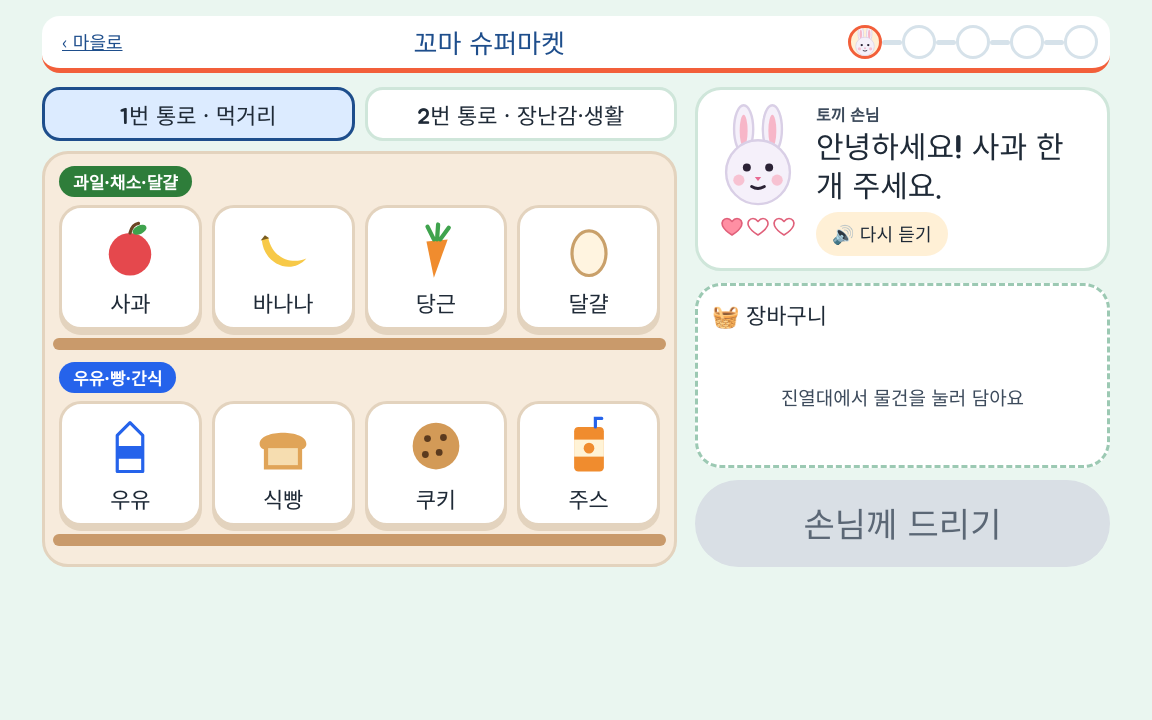
점원 놀이 › 주문을 듣고 고르고, 틀리면 도와주고, 맞으면 다음 손님
Earlier steps of the test are not shown.
Expected: the text "안녕하세요! 사과 한 개 주세요." is shown, [816,130,1095,208]
Expected: the button "손님께 드리기" is disabled, [695,480,1110,567]
Click the button with aria-label "바나나 담기" at [283, 268], box [212,205,355,330]
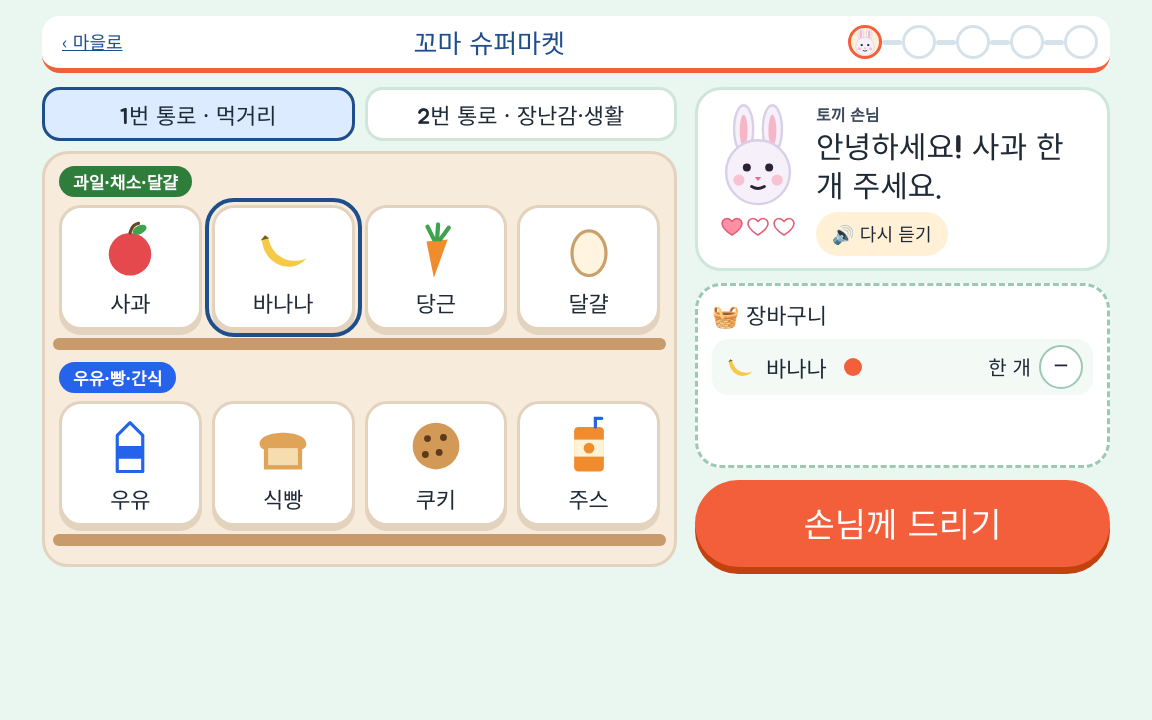
Click the button "손님께 드리기" at [902, 524], box [695,480,1110,567]
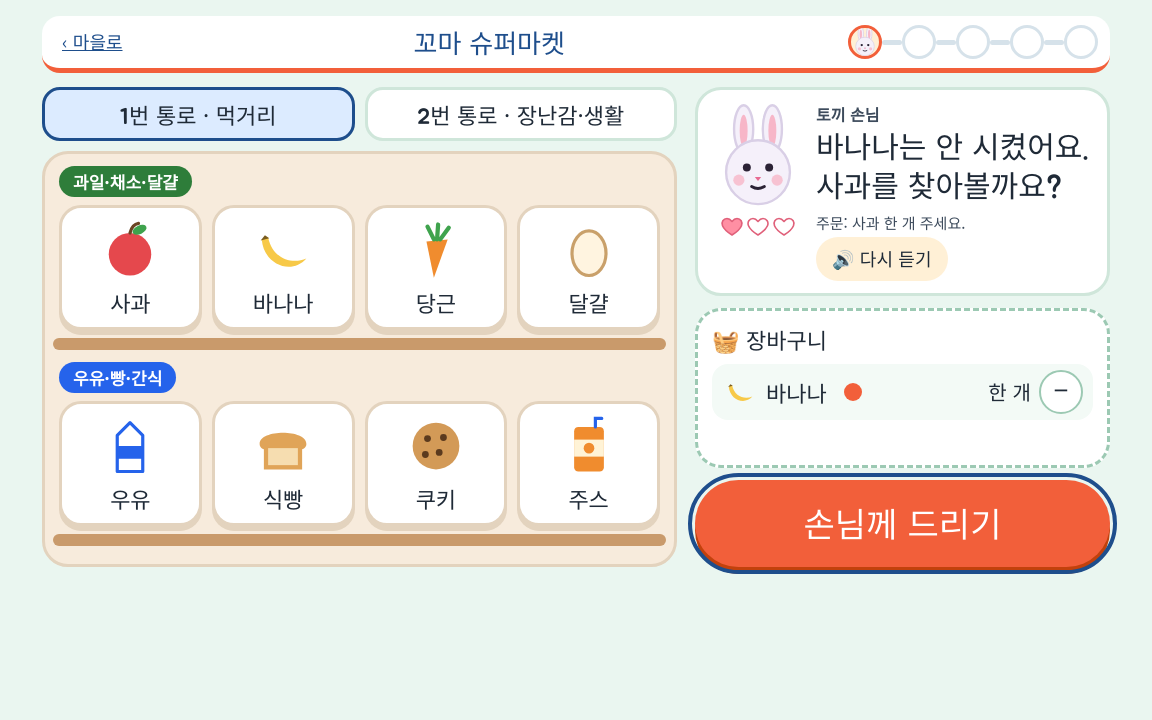
Expected: the text "바나나는 안 시켰어요. 사과를 찾아볼까요?" is shown, [816,130,1095,208]
Click the button named "바나나 하나 빼기" at [1061, 392], box [1039,370,1083,414]
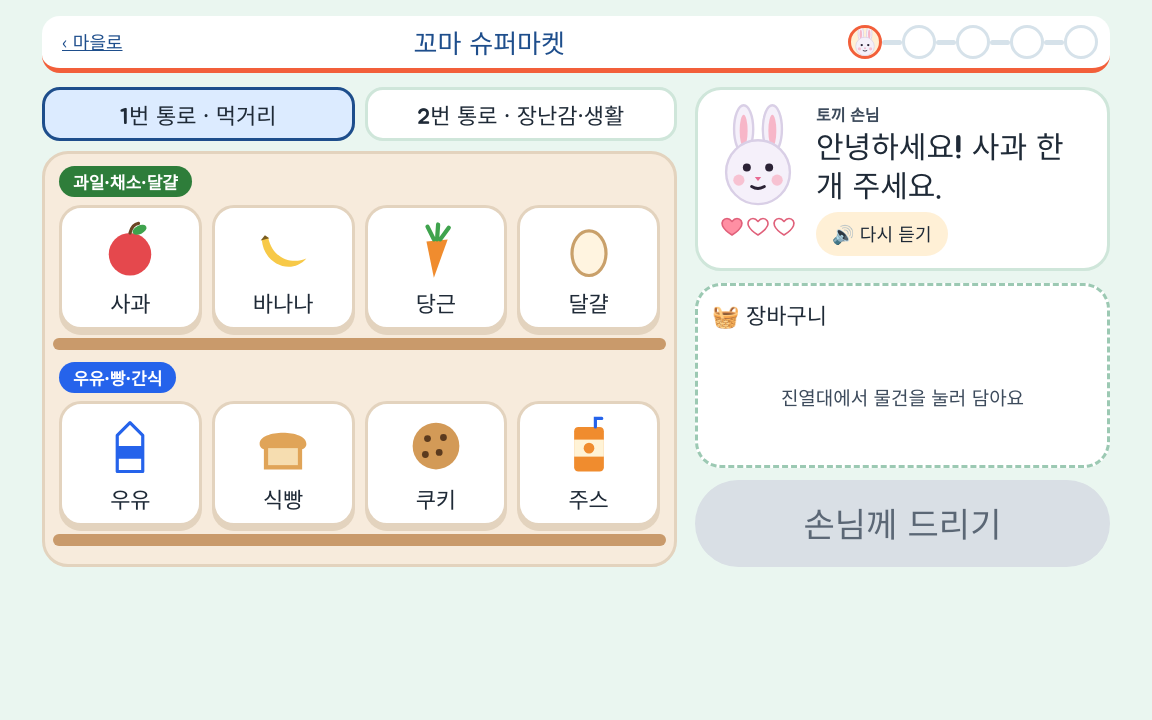
Click the button with aria-label "사과 담기" at [130, 268], box [59,205,202,330]
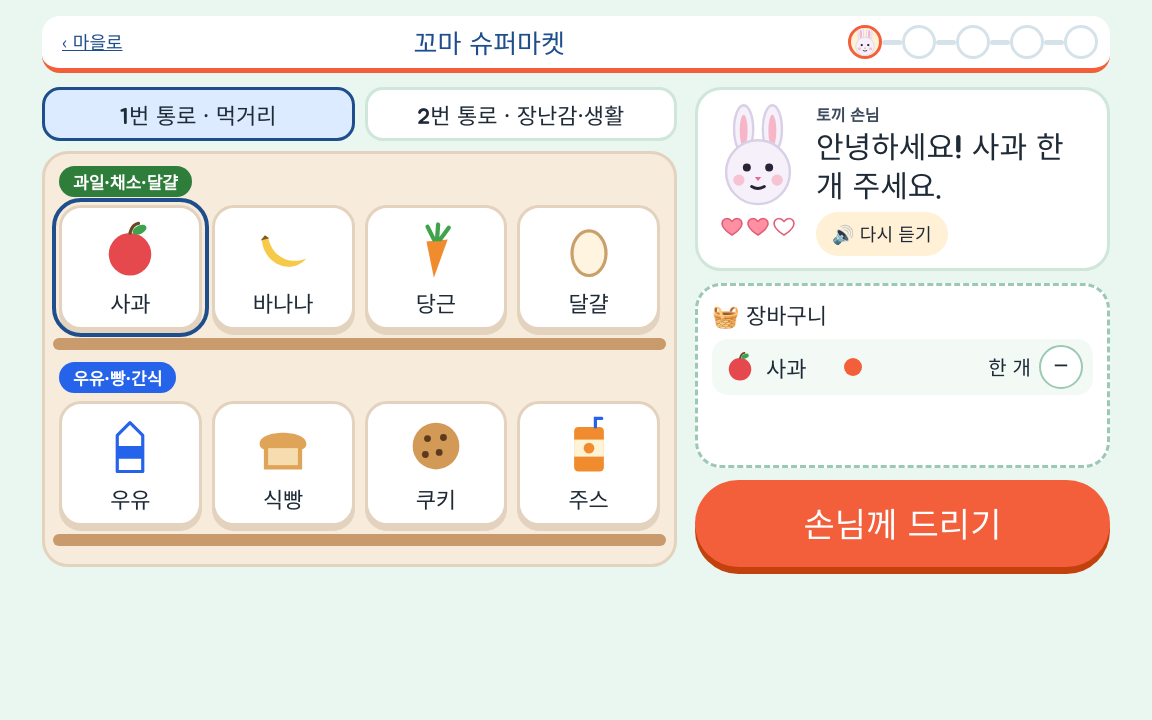
Click the button "손님께 드리기" at [902, 524], box [695,480,1110,567]
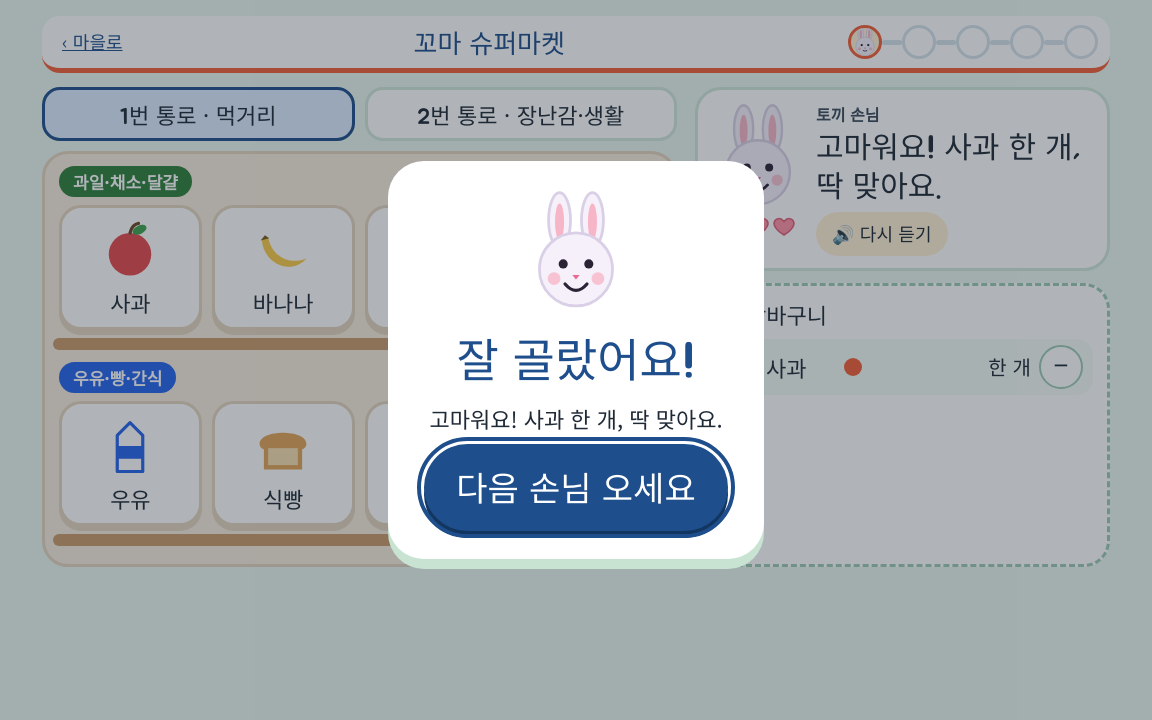
Expected: the dialog "잘 골랐어요!" shows "고마워요! 사과 한 개, 딱 맞아요.", [430,402,723,434]
Click the button "다음 손님 오세요" at [576, 487], box [424,444,728,531]
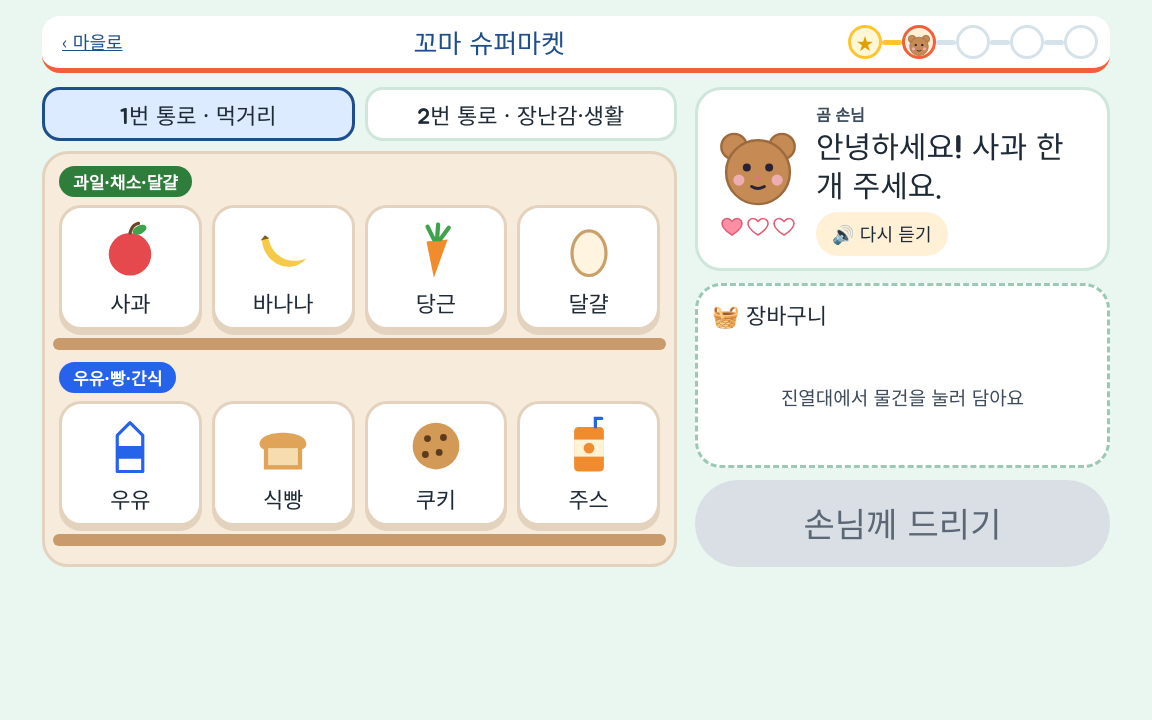
Expected: the picture named "손님 5명 중 2번째" is shown, [848,25,1098,59]
